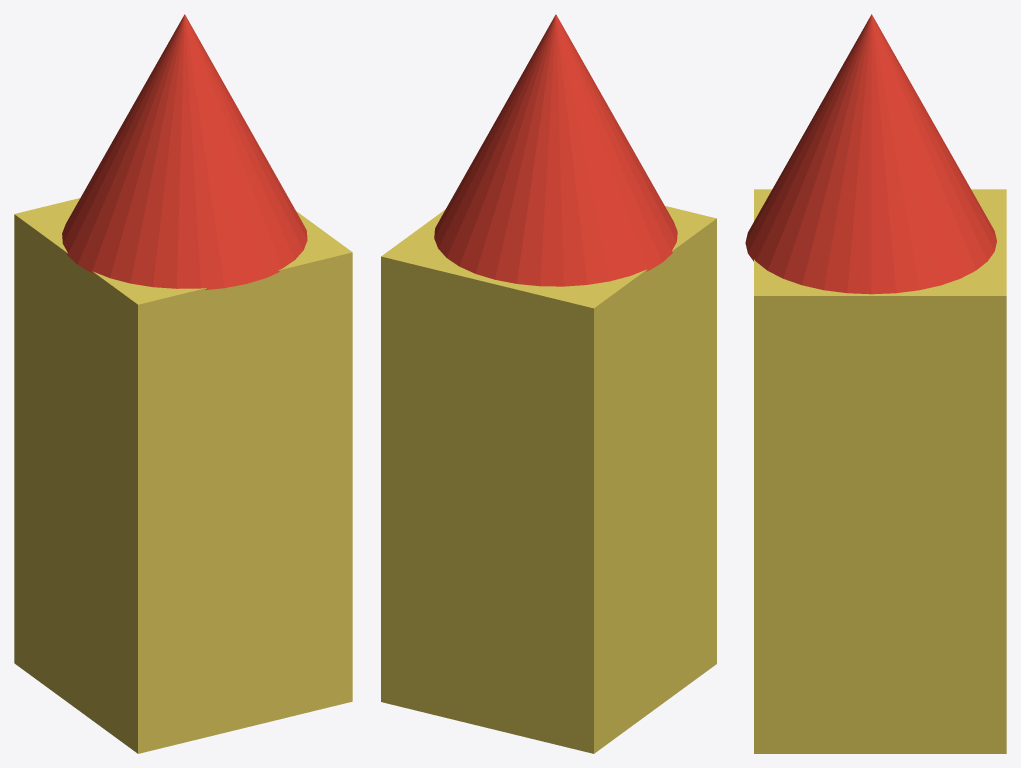
The model's file is goal_01.glb.
3 renders of one model, left to right at view 1: azimuth 30°, elevation 25°; view 2: azimuth 150°, elevation 25°; view 3: azimuth 270°, elevation 25°, orthographic. The views are drawn at different scales.
Parts seen in each view (by area): view 1: Cube, Cone; view 2: Cube, Cone; view 3: Cube, Cone.
Boxes of the visible parts, x1,y1,x2,y2 form: Cube: (14,198,352,753); Cone: (62,14,307,289); Cube: (381,206,716,753); Cone: (434,14,677,286); Cube: (754,189,1006,753); Cone: (745,14,996,294).
Bounding box in the file's own units: 0.2027 × 0.5985 × 0.2067.
